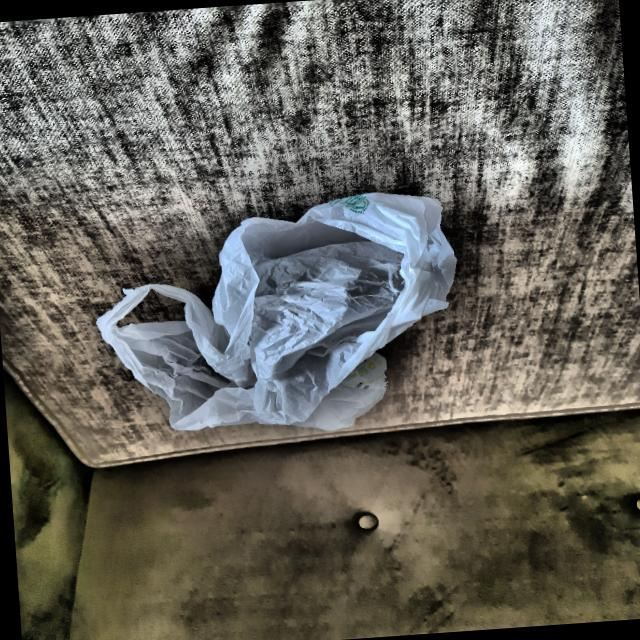plastic bag: (88, 186, 470, 452)
